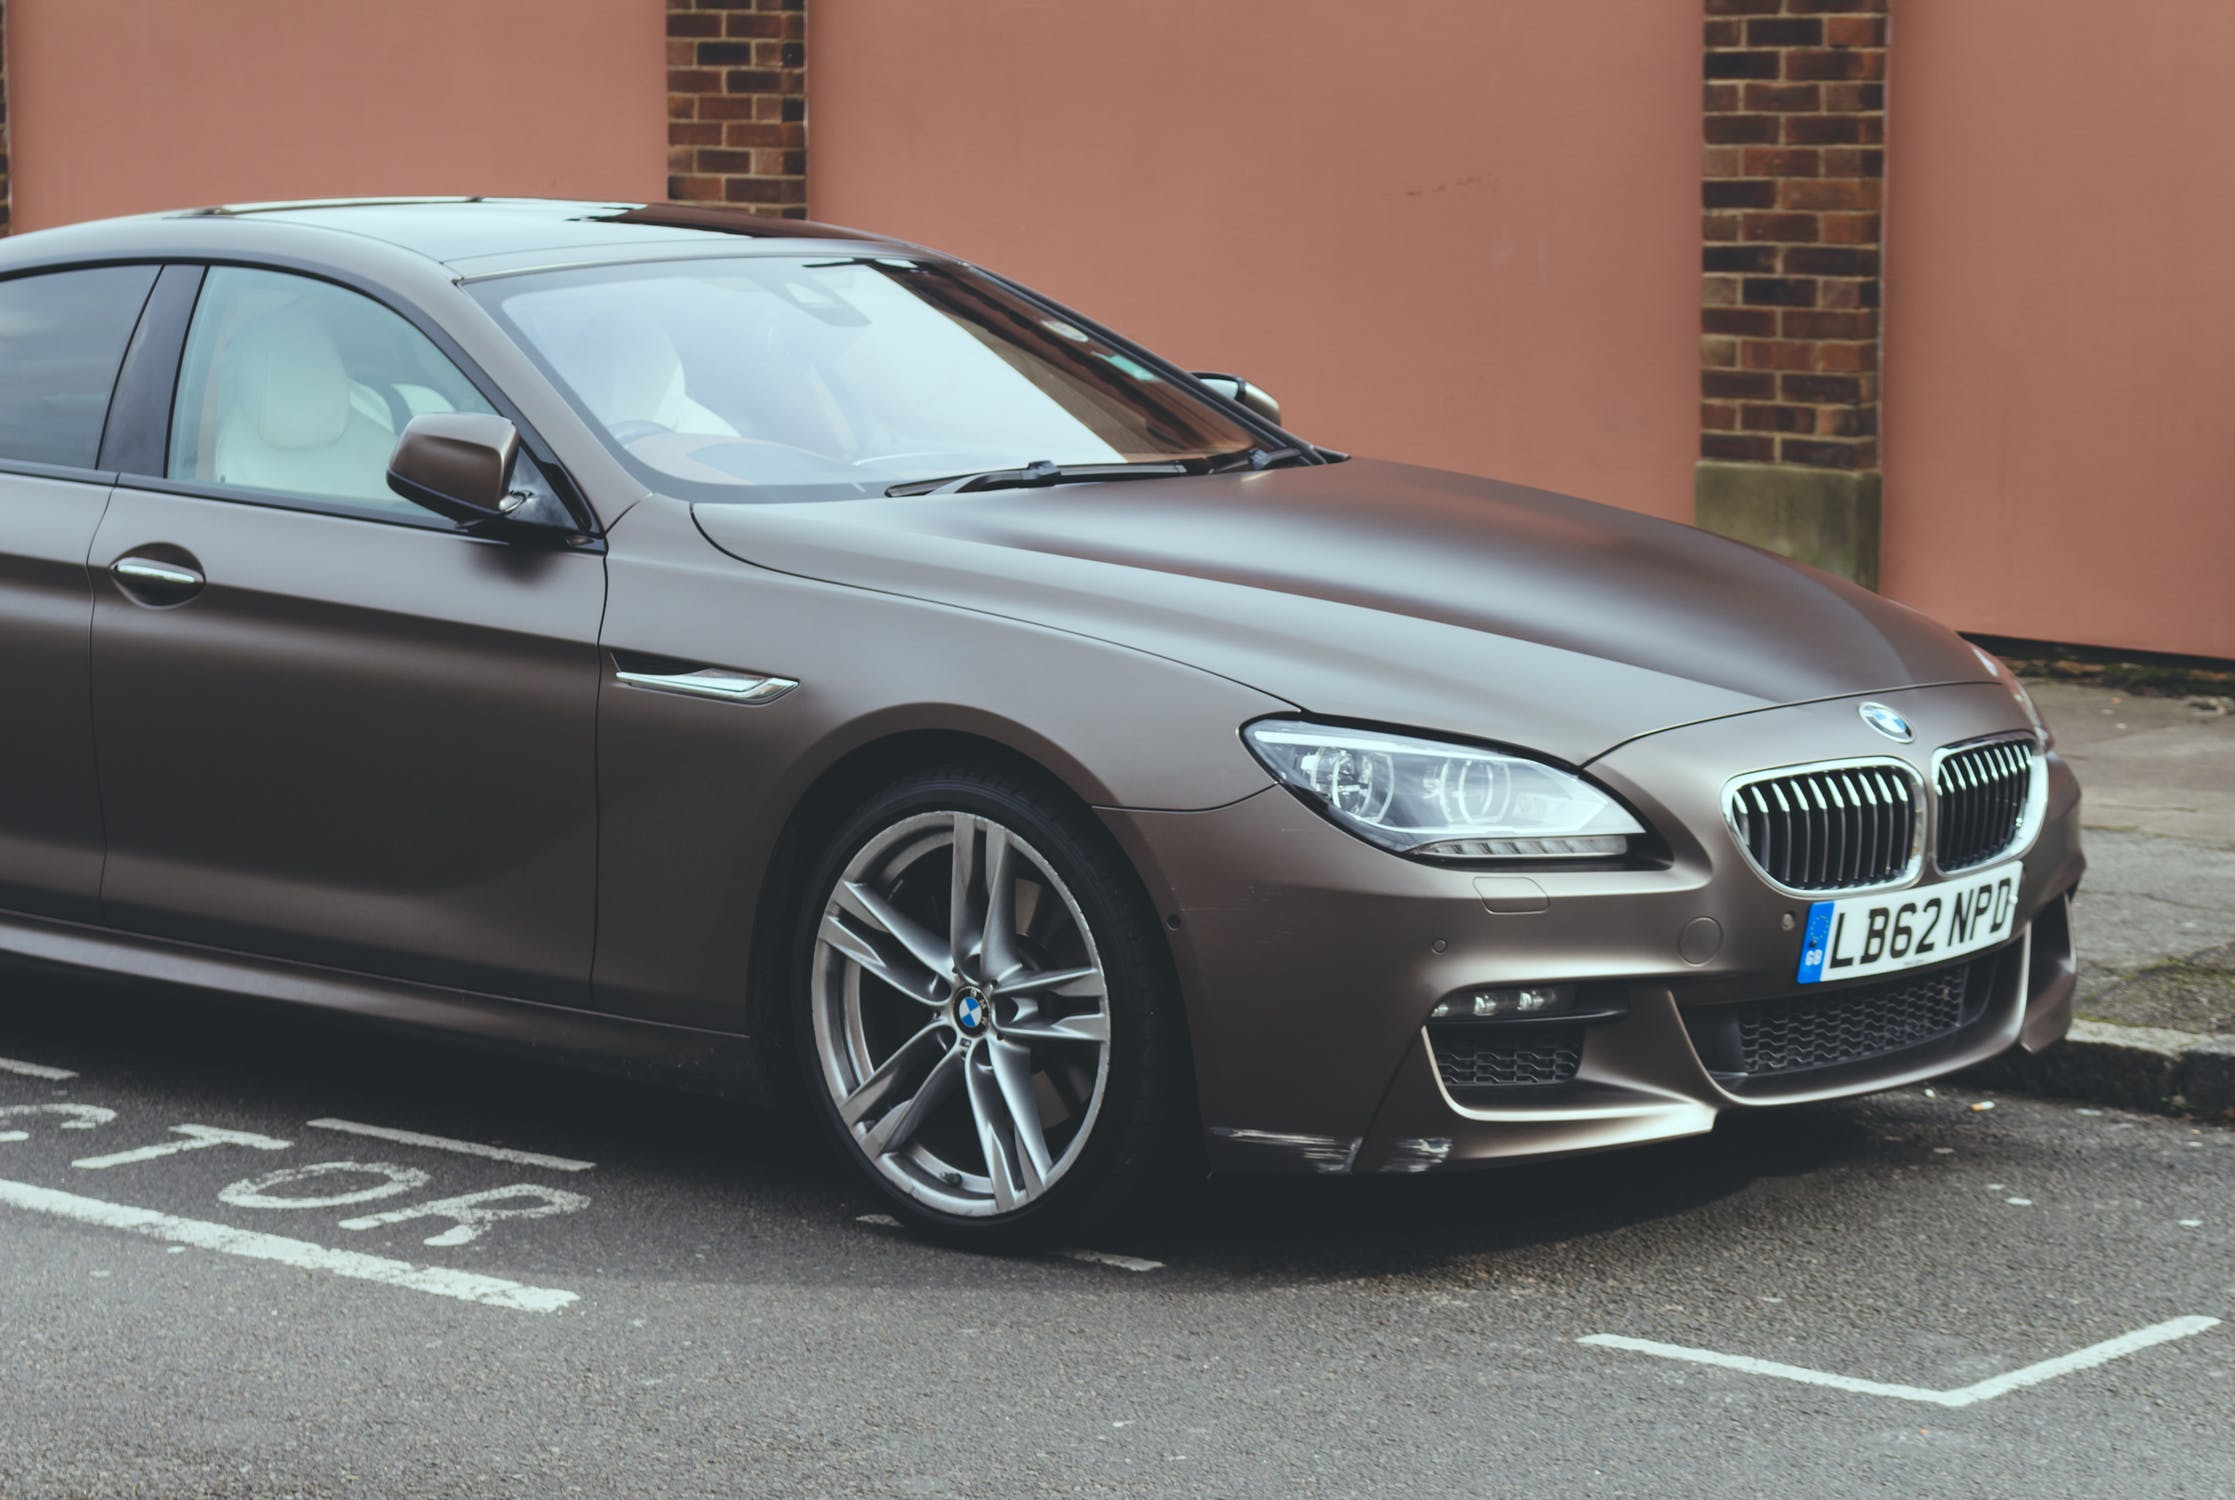bmw: (3, 159, 2138, 1363)
